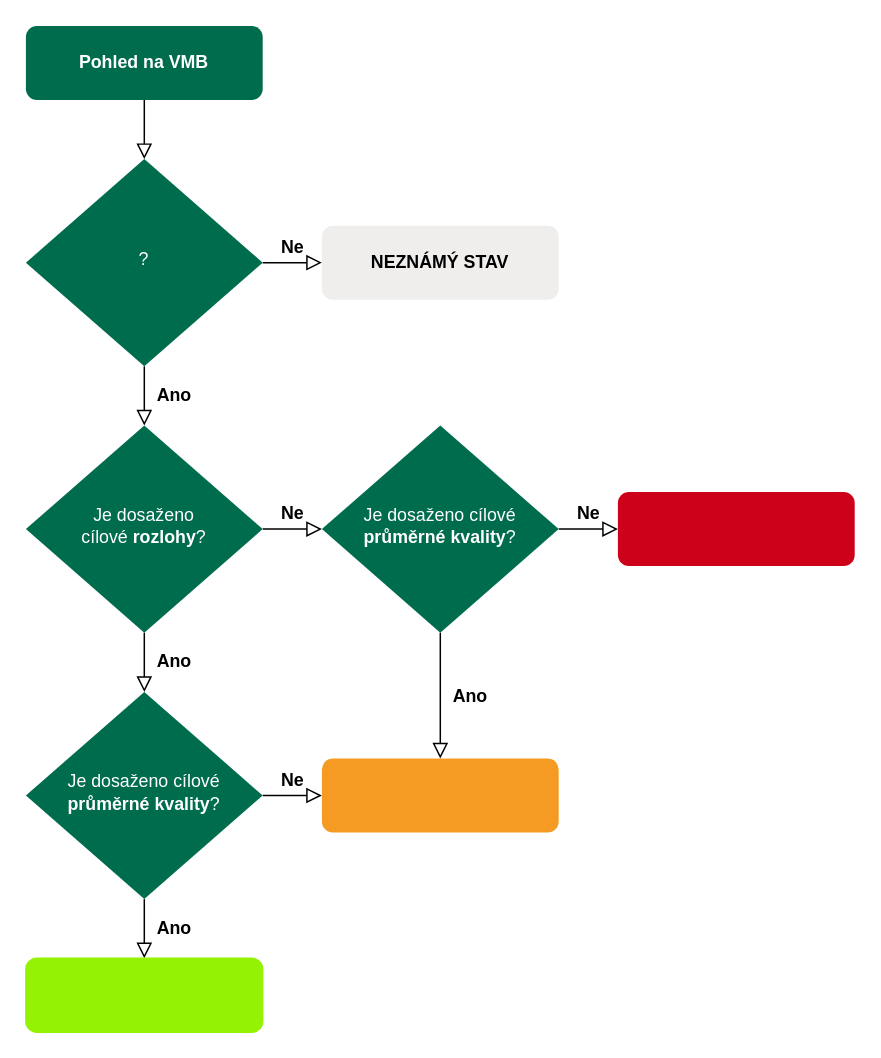
Some shapes in this 881 by 1058 pixel diagram are drawn without their labels. The shapes that lost their labels are listed below. From the top down, each one's centre as x and y in pixels, then its label:
At (735,528): "ŠPATNÝ STAV".
At (439,795): "ZHORŠENÝ STAV".
At (143,994): "DOBRÝ STAV".
